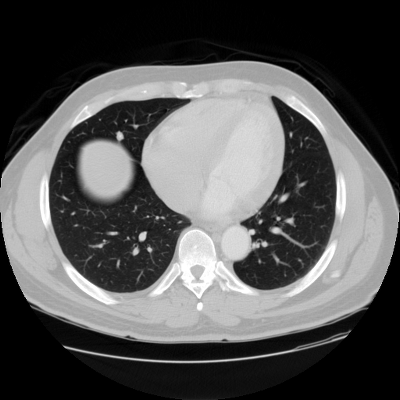nodule: (115, 132, 123, 140)
